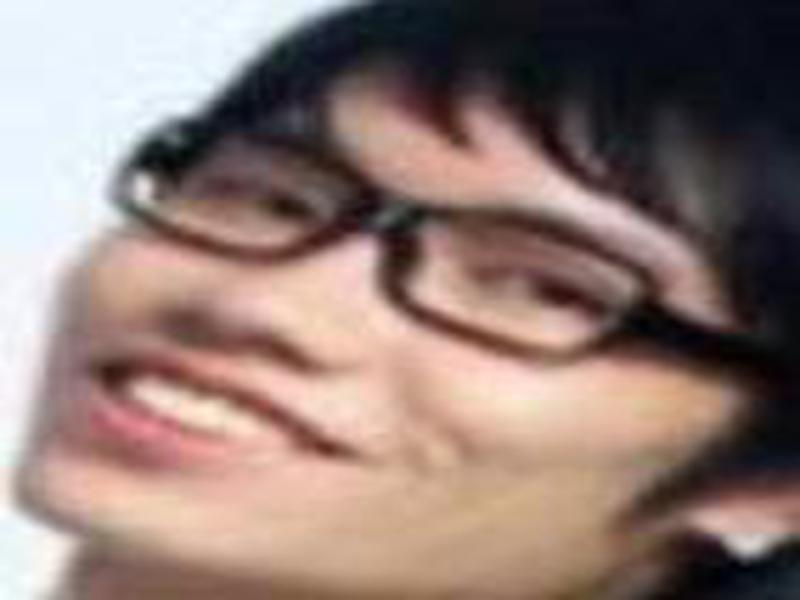without_mask: (19, 38, 699, 585)
